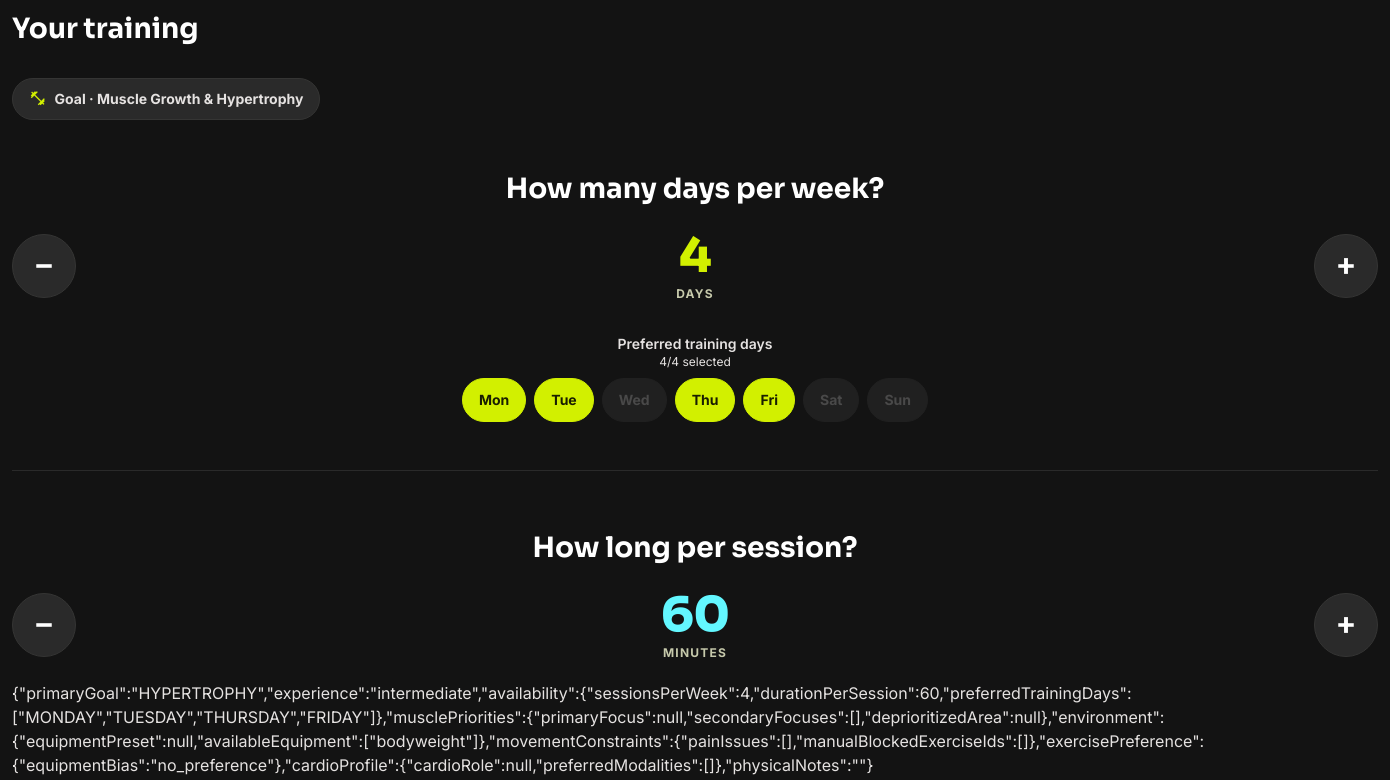
Scenario: Step 2 allows preferred-day customization and hides the control at seven sessions
Click the button with aria-label "Friday" at (769, 400), box 744,378 -> 795,422
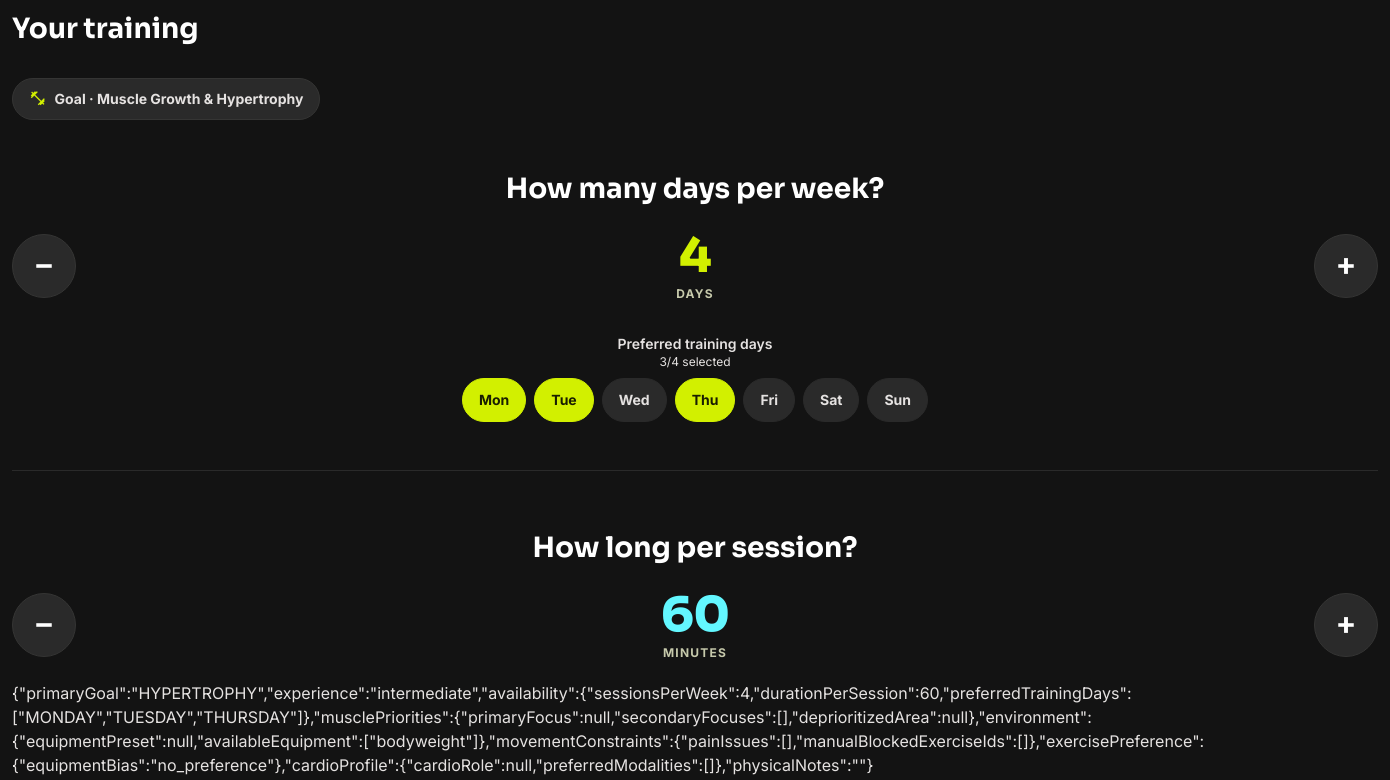
Click the button with aria-label "Sunday" at (898, 400), box 867,378 -> 928,422
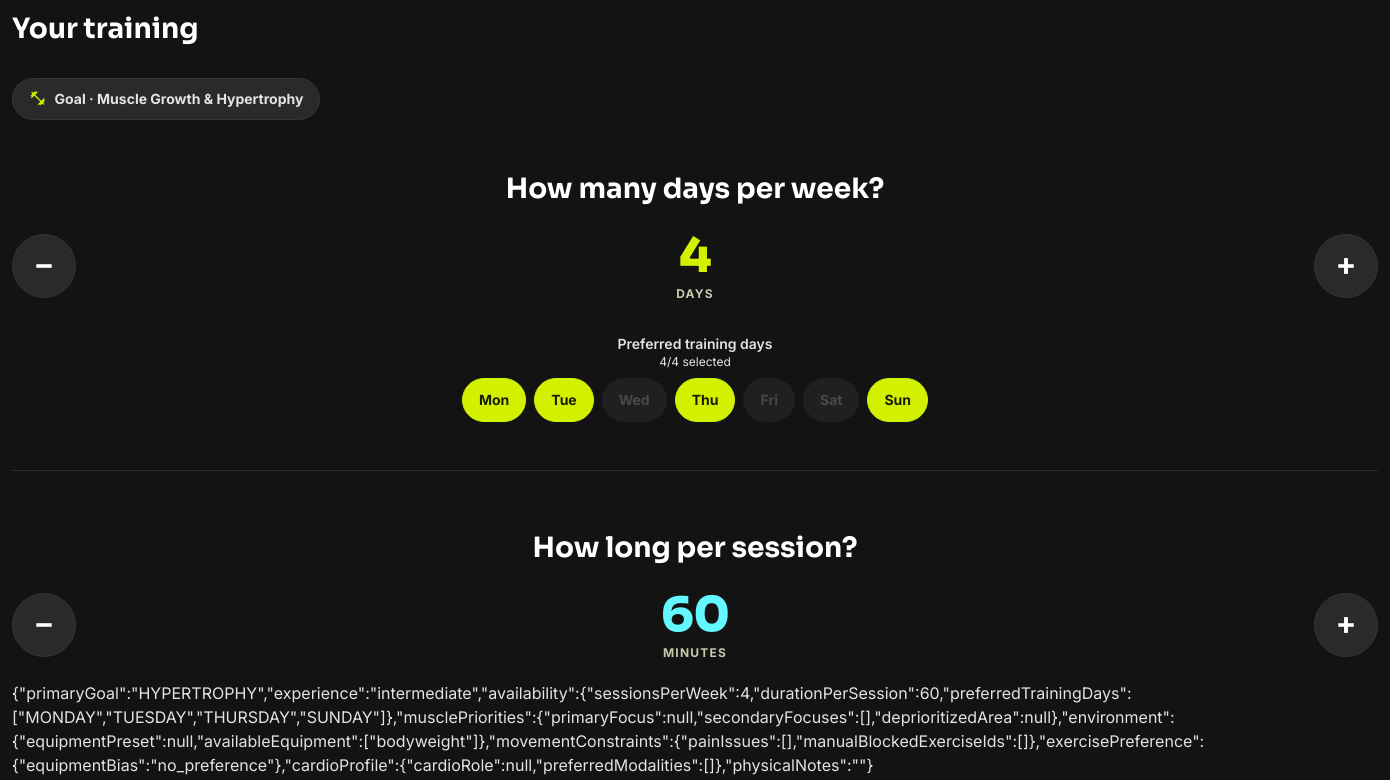
Click the button named "Increase training days" at (1346, 266), box 1314,234 -> 1378,298
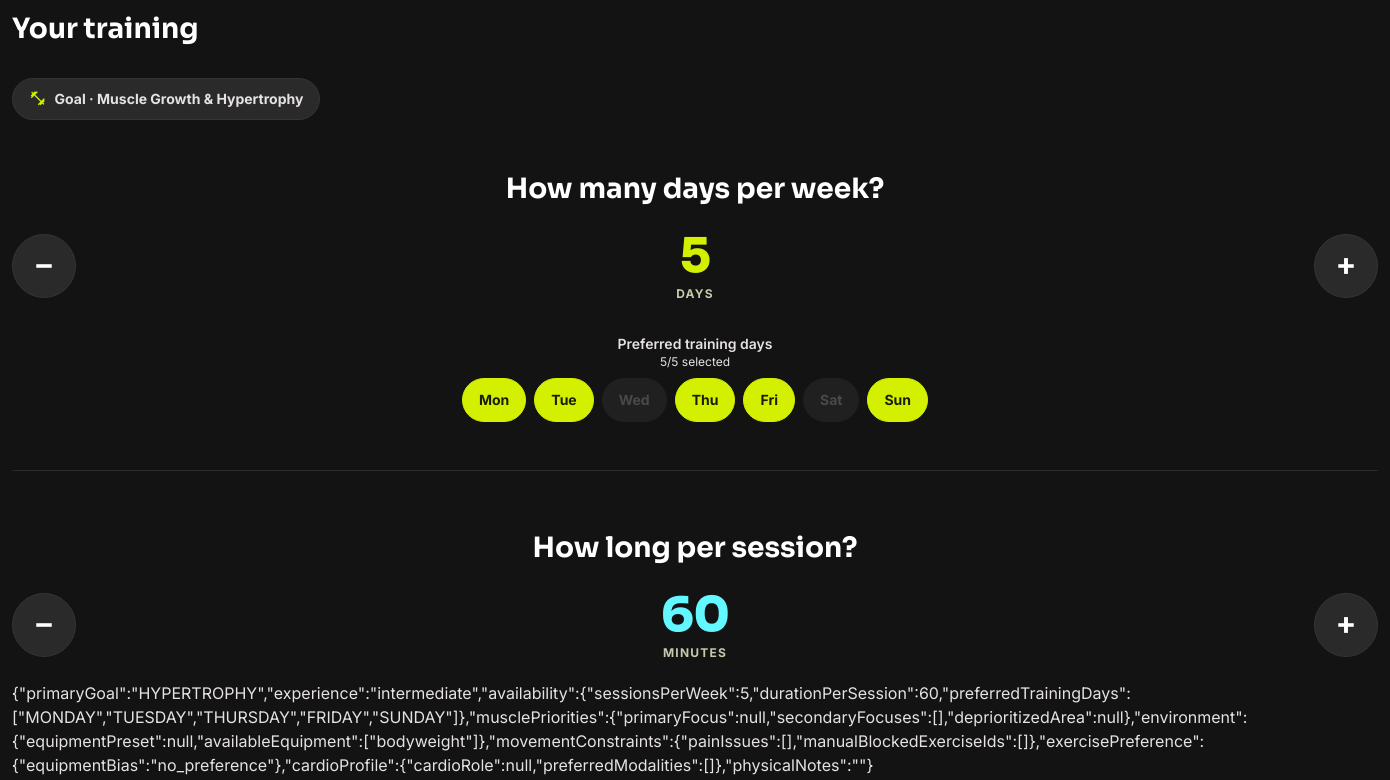
Click the button named "Increase training days" at (1346, 266), box 1314,234 -> 1378,298
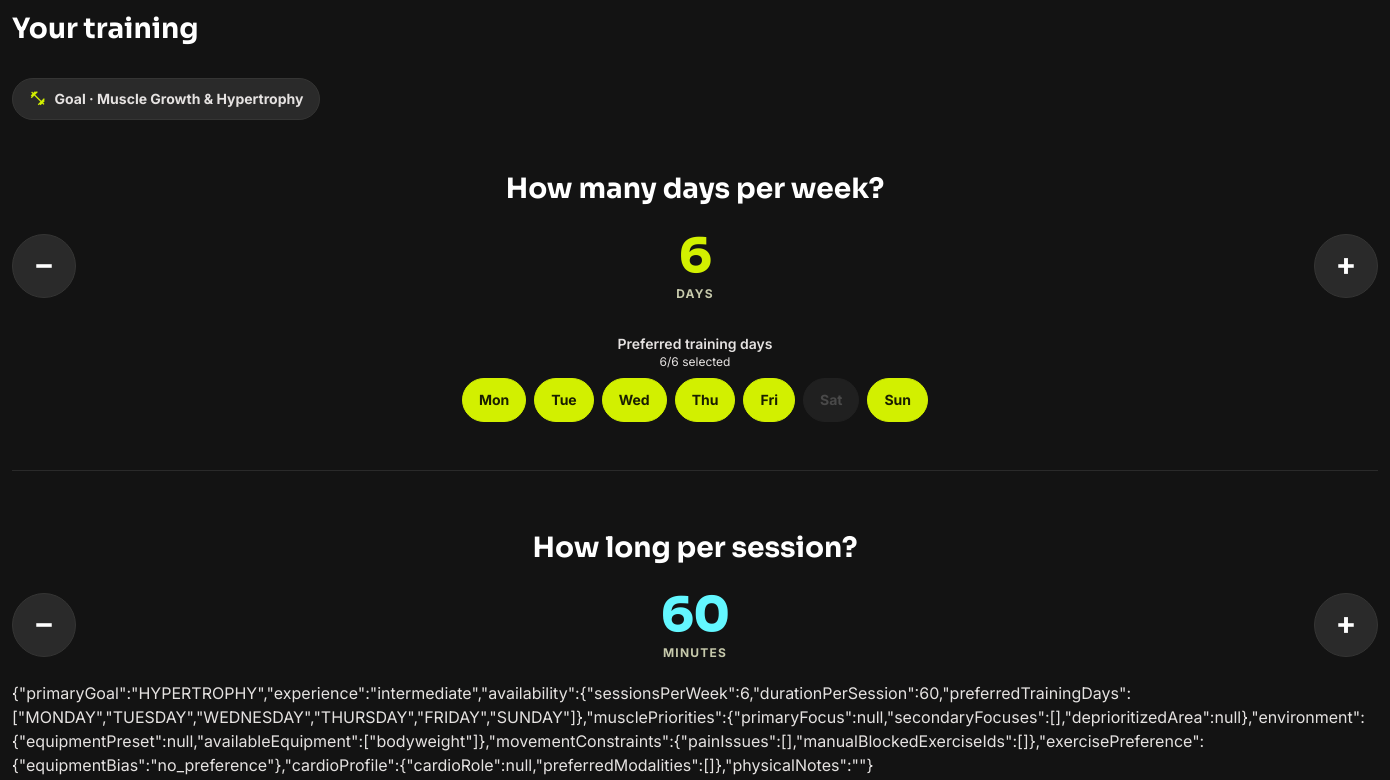
Click the button named "Increase training days" at (1346, 266), box 1314,234 -> 1378,298
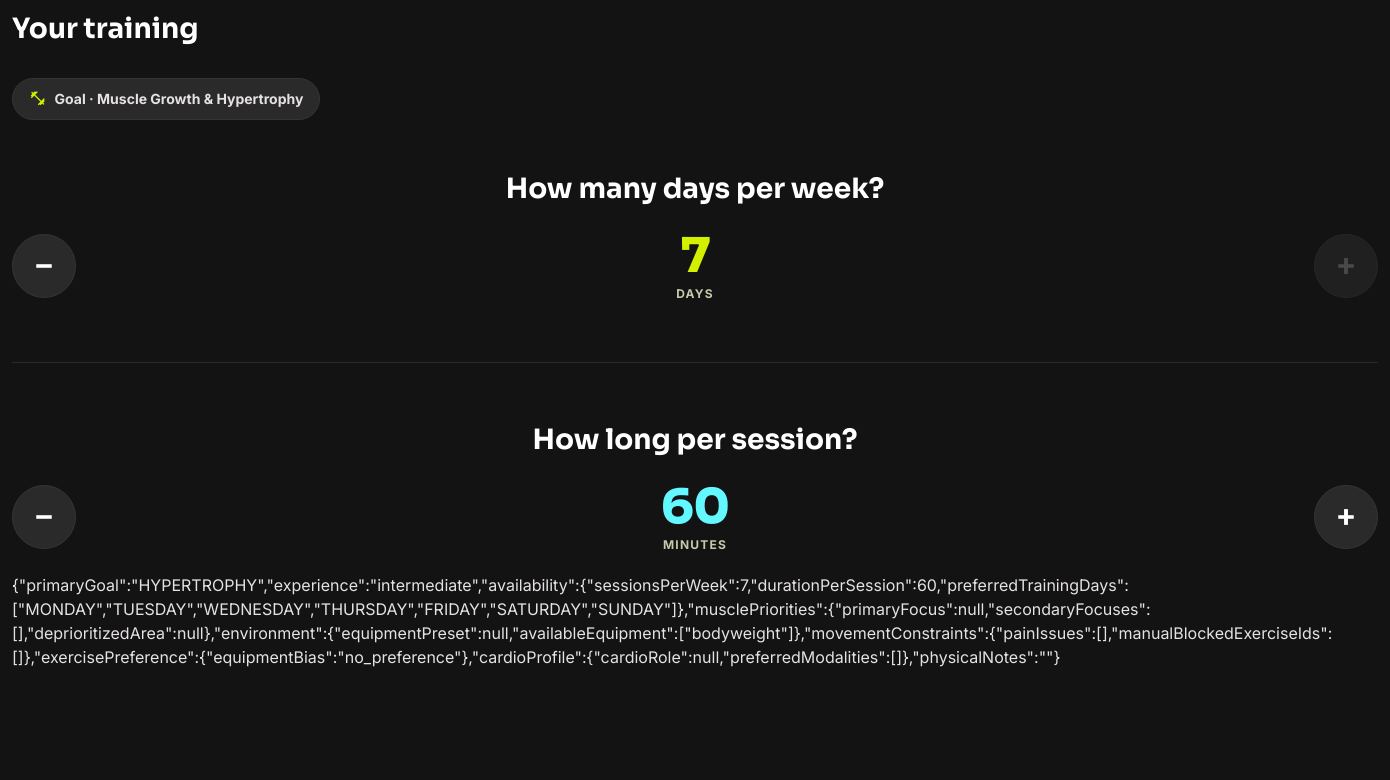
Expected: the text labelled "Preferred training days" is gone
